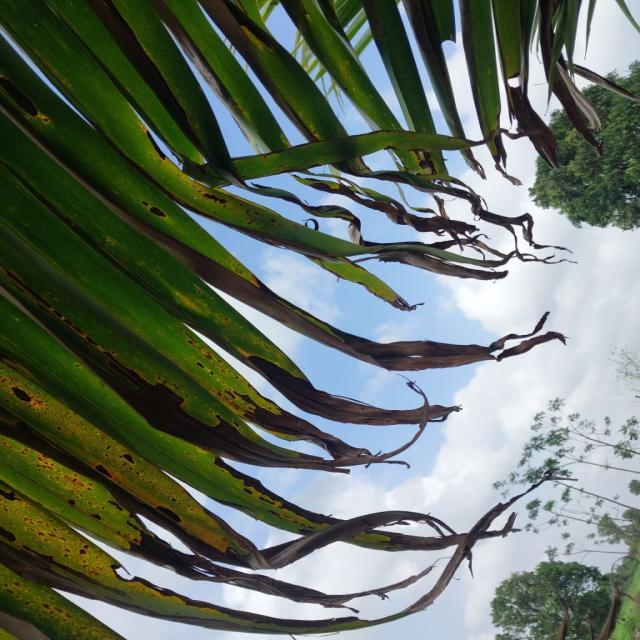leaf rot: (2, 1, 640, 638)
